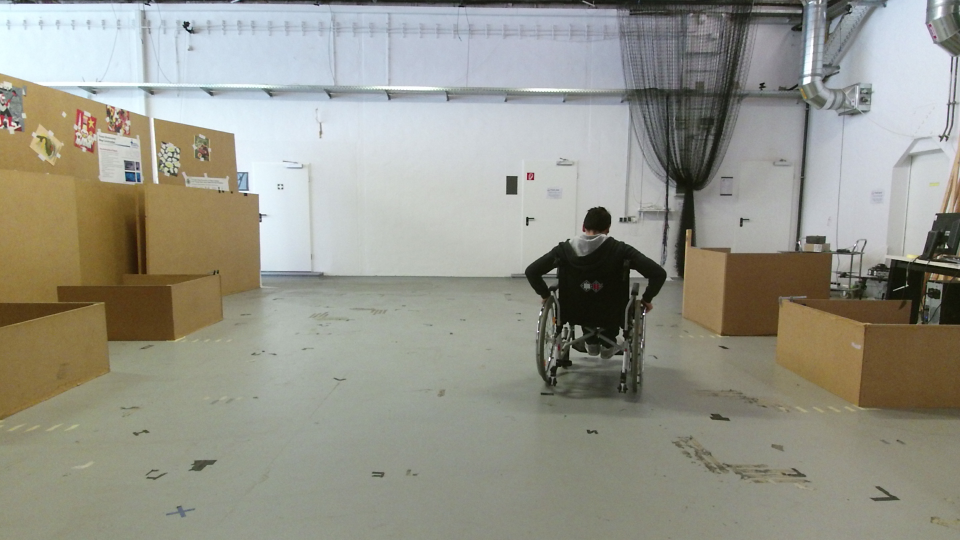wheelchair: (523, 199, 664, 399)
